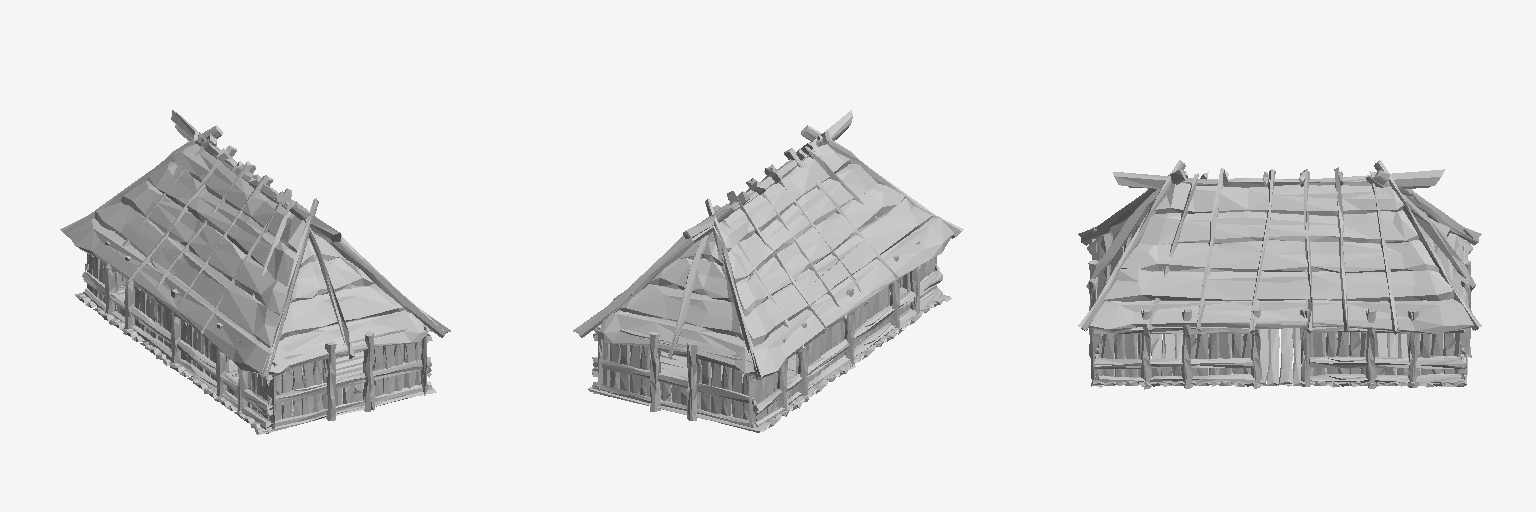
File: Cottage2.obj
3 views of the same model, side by side, from view 1: azimuth 30°, elevation 25°; view 2: azimuth 150°, elevation 25°; view 3: azimuth 270°, elevation 25° (orthographic).
Parts seen in each view (by area): view 1: Circle.007_Circle.010; view 2: Circle.007_Circle.010; view 3: Circle.007_Circle.010.
Boxes of the visible parts, <box> form: Circle.007_Circle.010: <box>60,110,450,434</box>; Circle.007_Circle.010: <box>573,110,963,432</box>; Circle.007_Circle.010: <box>1078,160,1481,389</box>.
Size of the model in its own units: 12.69 by 11.65 by 23.33.